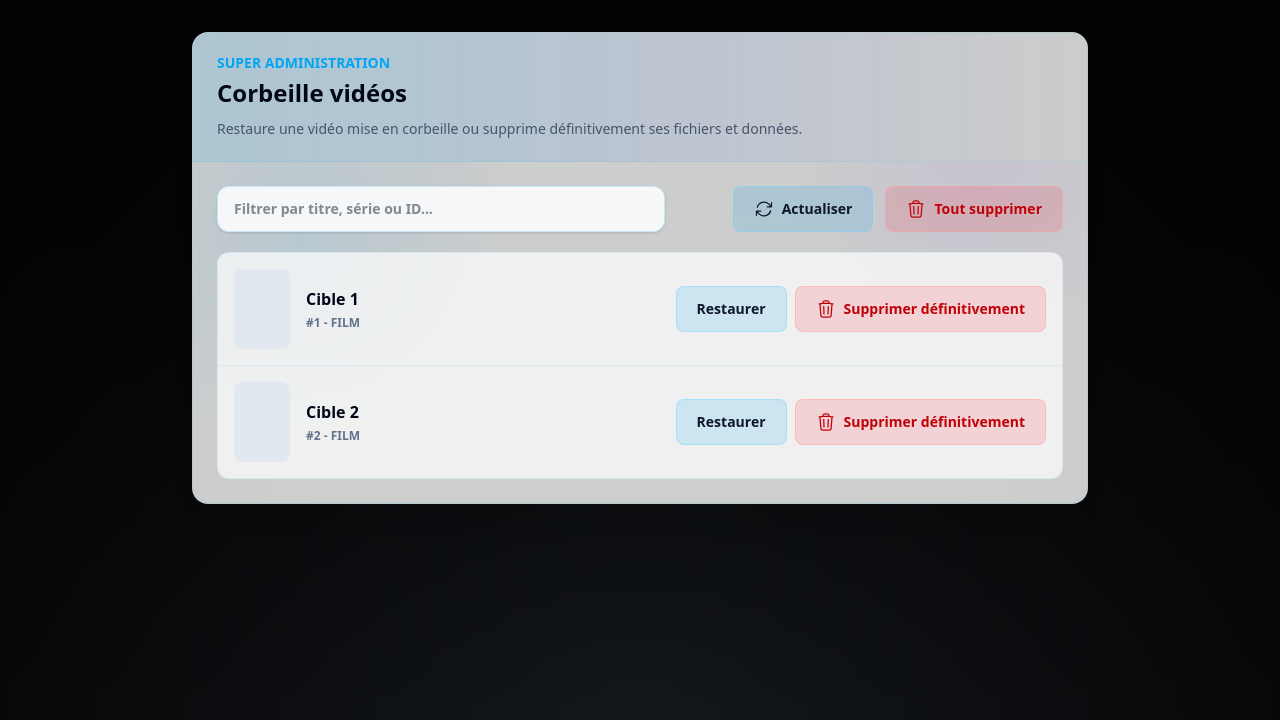
Test: une erreur partielle est signalée et la liste est actualisée
Check: the text "Cible 1" is shown, box [306, 287, 360, 311]
Click the button "Tout supprimer".
click(974, 209)  # box [885, 186, 1063, 232]
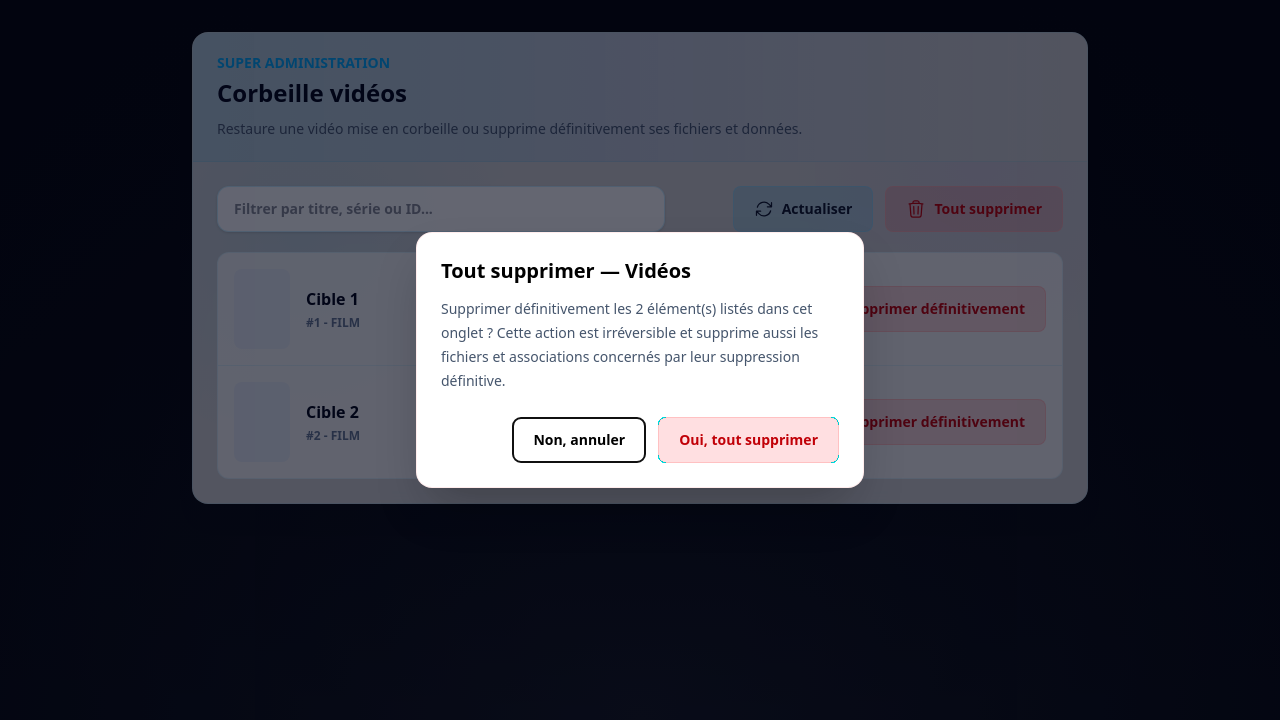
Click the button "Oui, tout supprimer".
click(749, 440)  # box [658, 417, 839, 463]
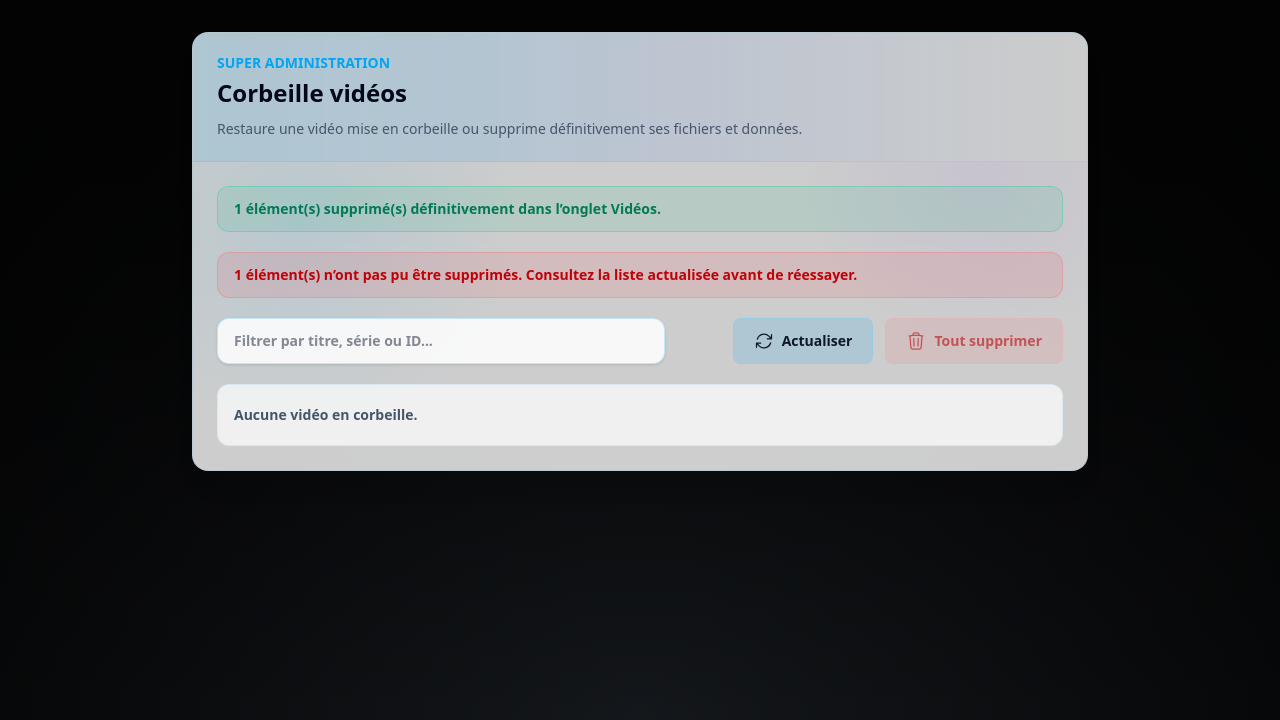
Check: the text "1 élément(s) n’ont pas pu être supprimés" is shown, box [234, 265, 857, 284]
